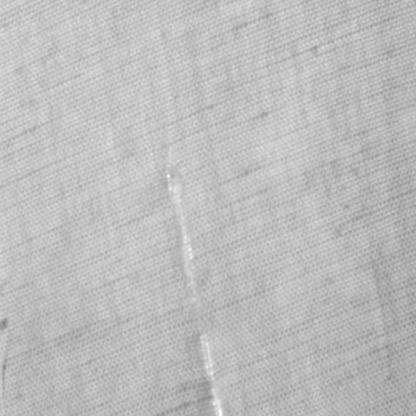thread error: (160, 156, 221, 415)
